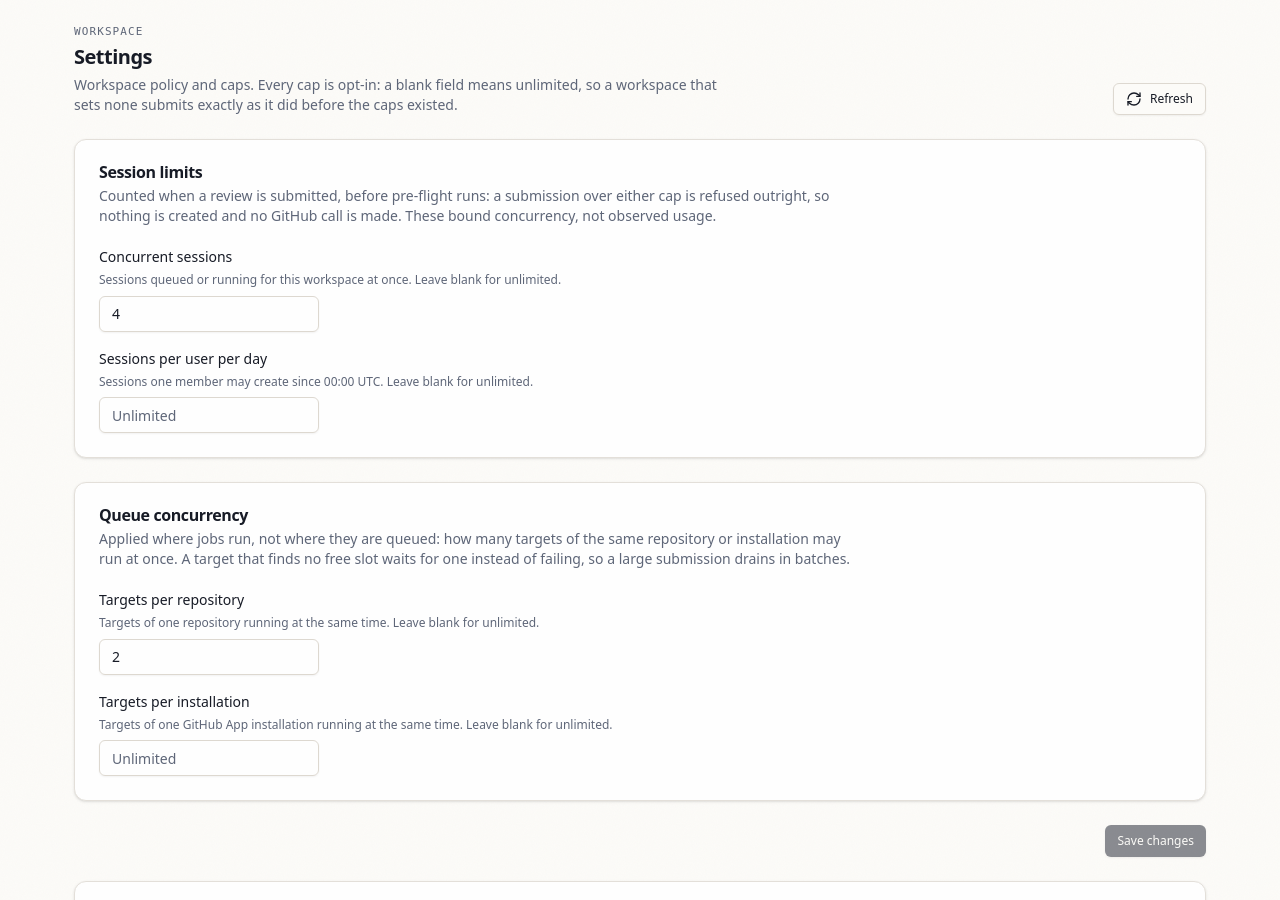
Test: SettingsScreen › confirms a landed save and re-reads what the server stored
Type "3" into the field labelled "Targets per installation".
click(209, 758); type("3")  # box top-left (99, 740), bottom-right (319, 776)
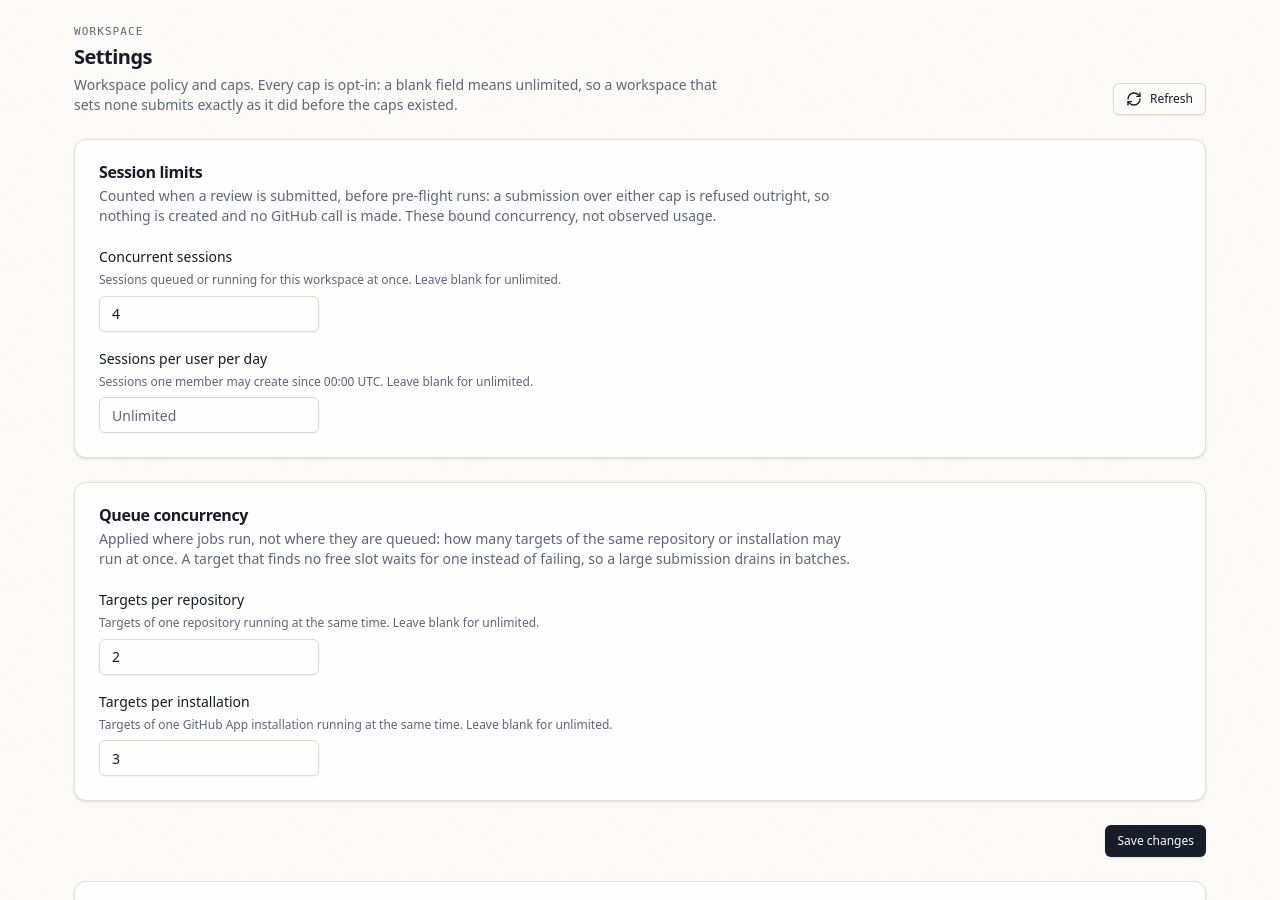
Click the button "Save changes".
click(1156, 841)  # box top-left (1106, 825), bottom-right (1206, 857)
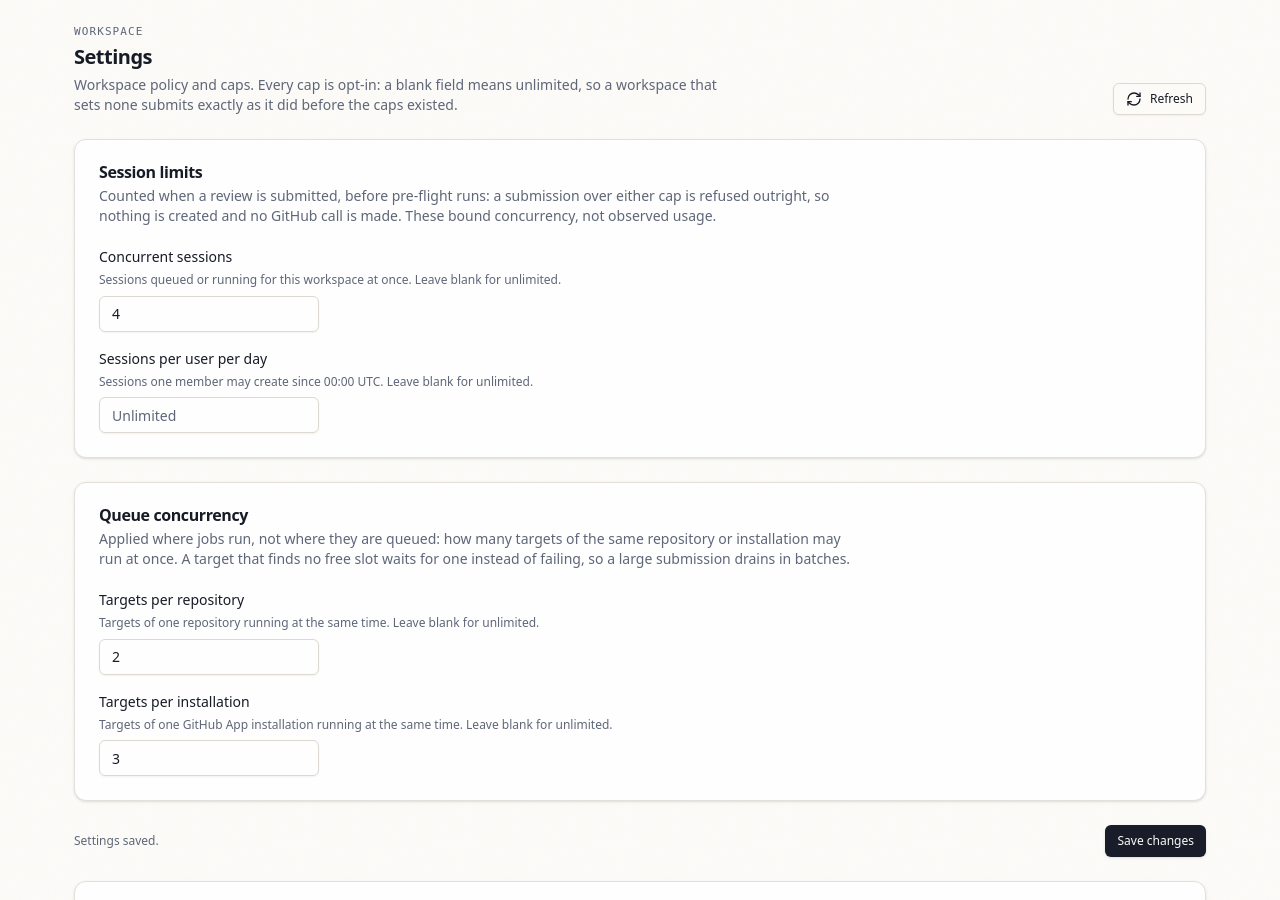
Now the text "Settings saved." is shown, box top-left (74, 833), bottom-right (159, 849)
